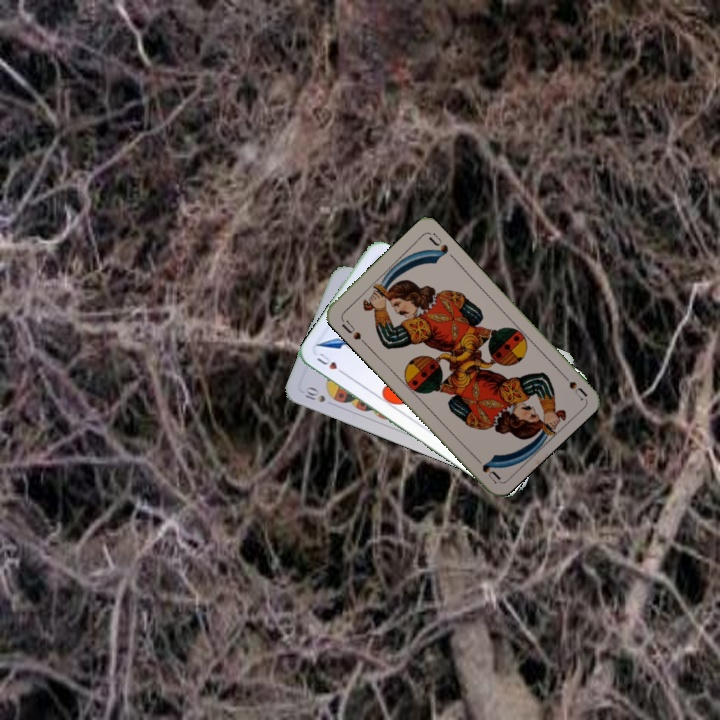HU: (313, 349, 349, 378)
S10: (301, 383, 328, 405)
SU: (555, 367, 589, 403), (337, 314, 369, 347)
